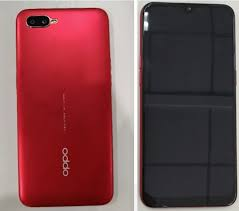oppo: (12, 6, 114, 209)
